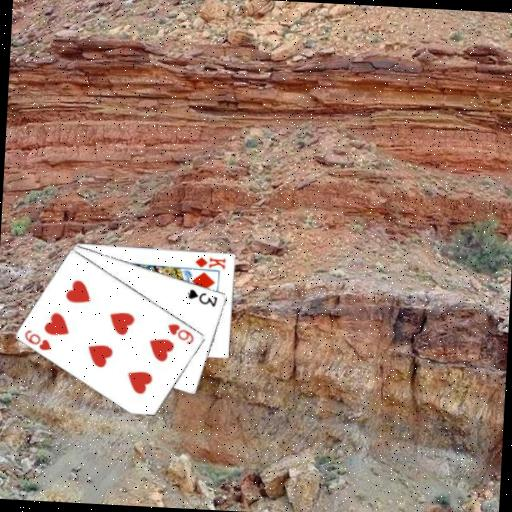3S: (185, 286, 220, 308)
6H: (21, 326, 54, 352), (164, 320, 197, 345)
KD: (192, 253, 228, 270)
